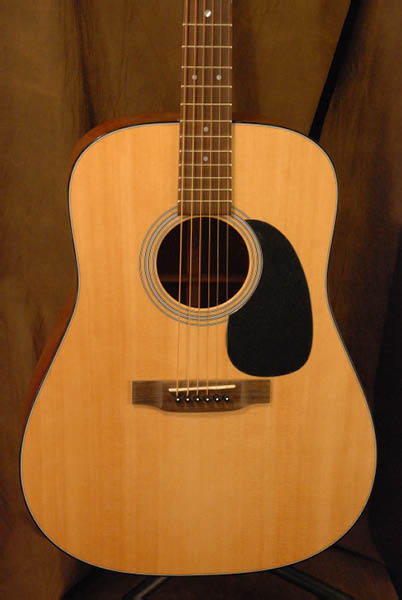guitar: (17, 1, 379, 576)
